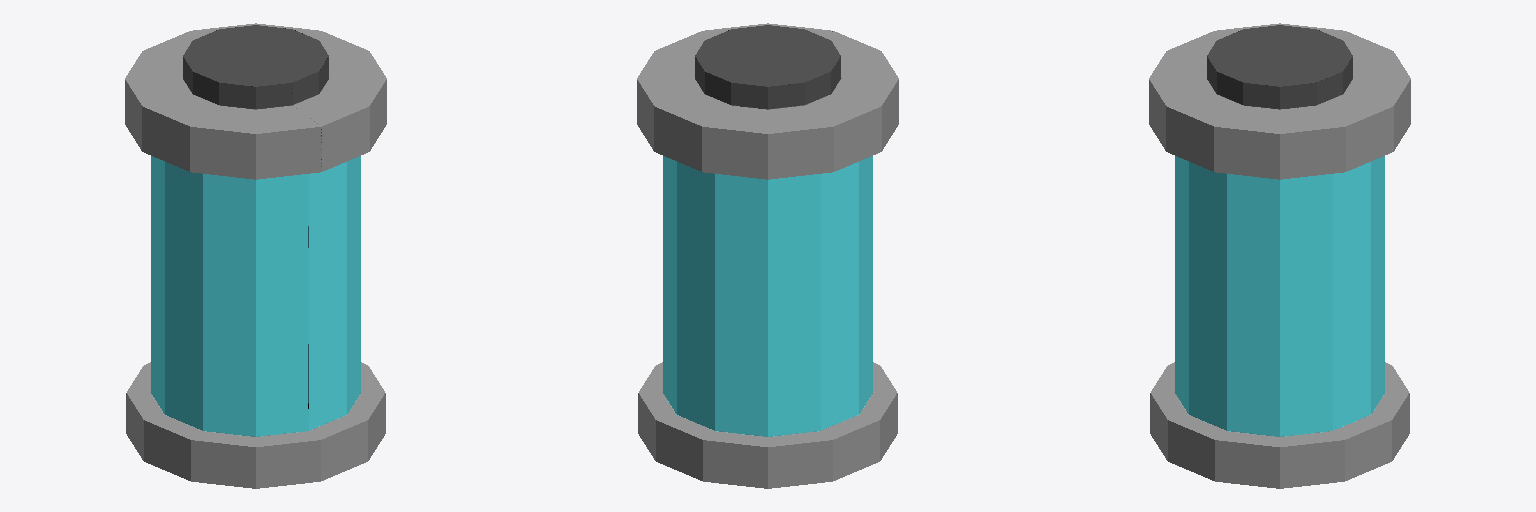
3 views of the same model, side by side, from view 1: azimuth 30°, elevation 25°; view 2: azimuth 150°, elevation 25°; view 3: azimuth 270°, elevation 25° (orthographic).
Parts seen in each view (by area): view 1: Cylinder; view 2: Cylinder; view 3: Cylinder.
Boxes of the visible parts, box(x1,y1,x2,y2) form: Cylinder: box(125, 23, 386, 488); Cylinder: box(637, 23, 898, 488); Cylinder: box(1149, 23, 1410, 488).
Bounding box in the file's own units: 1.77 × 2.98 × 1.77.
Materials: 1 (1 with a texture image).